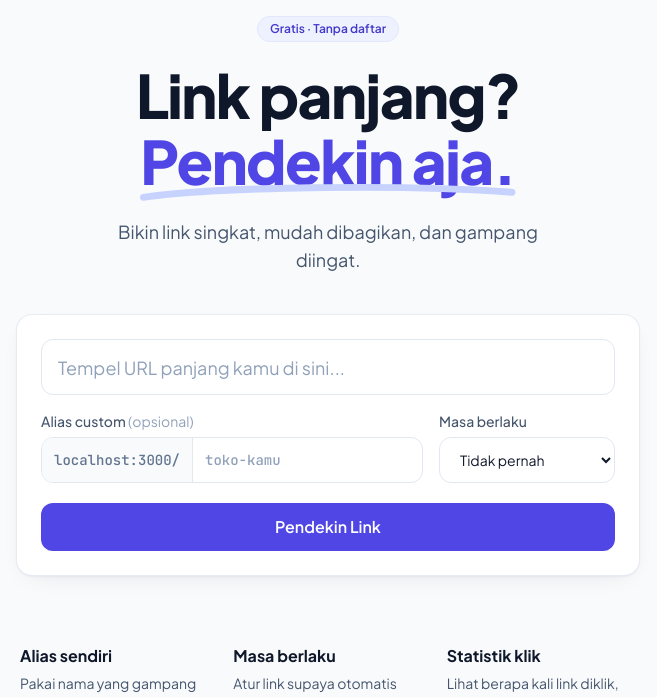
Test: ShortenForm › shows a clear error when the alias is taken
The image size is (657, 697).
Type "https://example.com" into the field with placeholder "Tempel URL panjang kamu di sini..." at [328, 367], box [41,339,615,395]
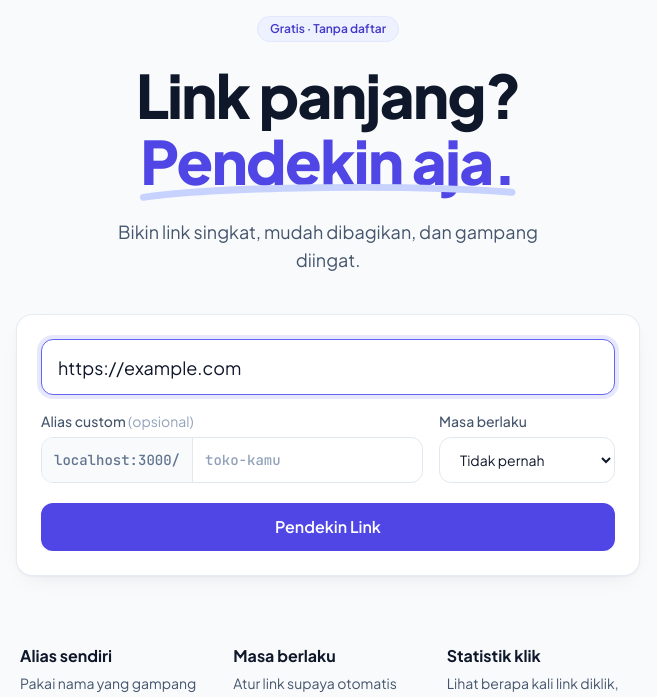
Type "toko" into the field labelled "Alias custom (opsional)" at [308, 460], box [193,438,422,482]
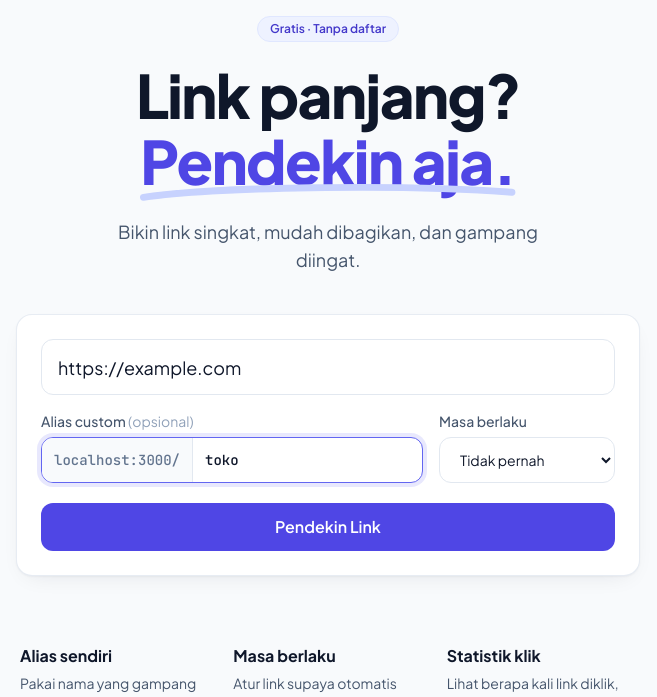
Click the button "Pendekin Link" at [328, 527], box [41,503,615,551]
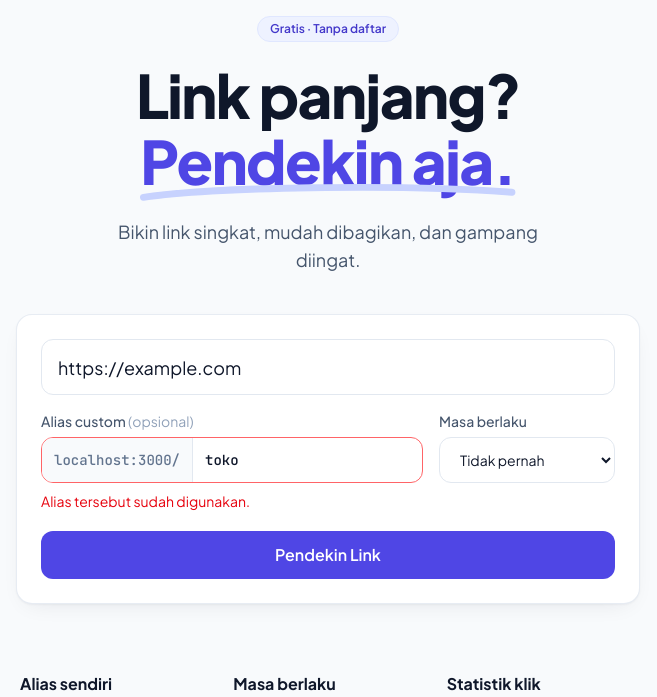
Result: the text "Alias tersebut sudah digunakan." is shown at [41,492,250,510]
